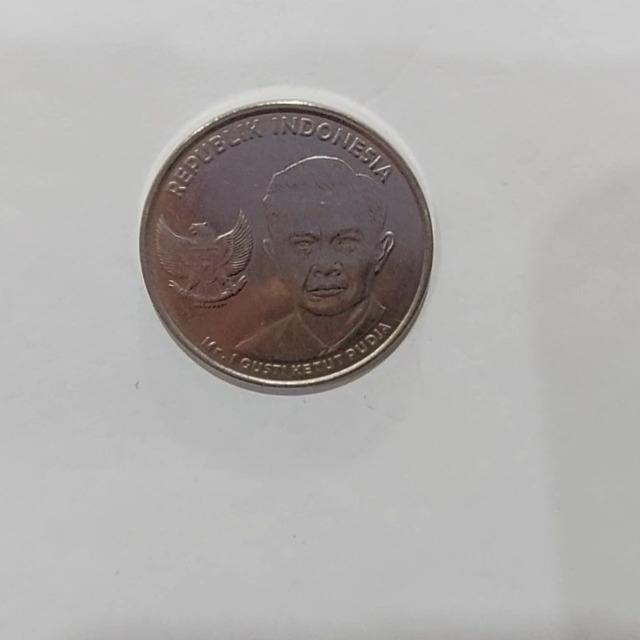Rp100: (138, 92, 436, 394), (227, 151, 399, 368)
